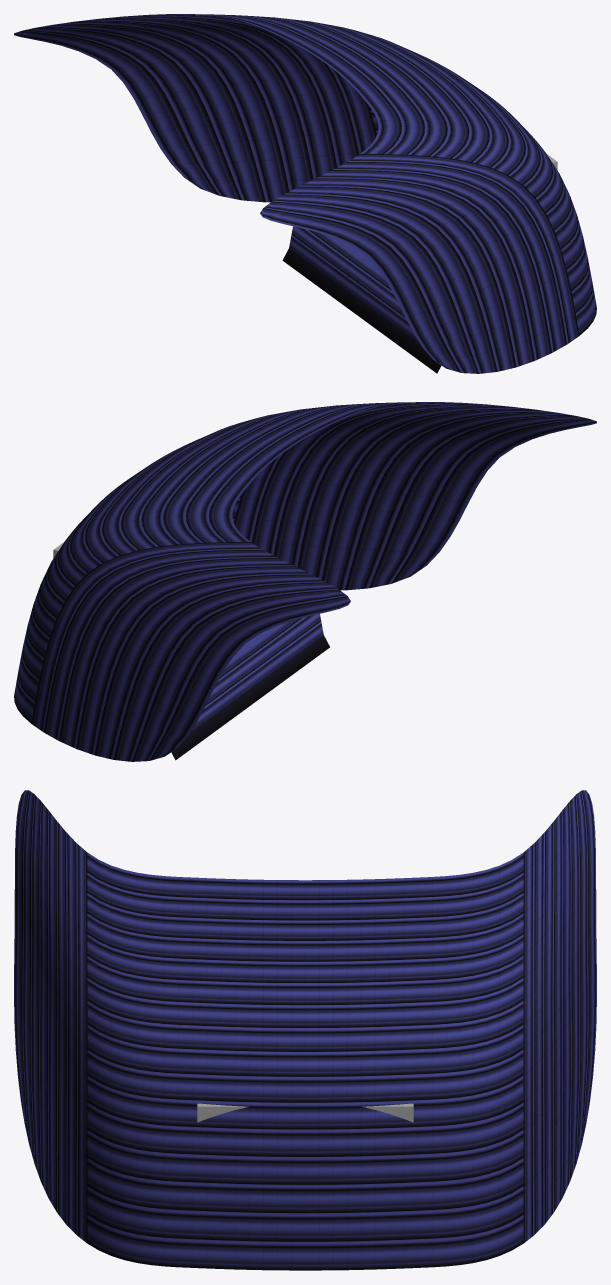
File: tempStage.fbx
3 views of the same model, one above another, from view 1: azimuth 30°, elevation 25°; view 2: azimuth 150°, elevation 25°; view 3: azimuth 270°, elevation 25° (orthographic). The views are drawn at different scales.
Visible parts, largest first — view 1: pPlane43, pPlane42; view 2: pPlane43, pPlane42; view 3: pPlane43, pCube7.
Boxes of the visible parts, <box> form: pPlane43: <box>14,14,596,373</box>; pPlane42: <box>282,226,441,373</box>; pPlane43: <box>14,402,596,761</box>; pPlane42: <box>171,614,329,760</box>; pPlane43: <box>14,790,596,1270</box>; pCube7: <box>197,1103,413,1122</box>.
Size of the model in its own units: 165 by 101 by 179.
